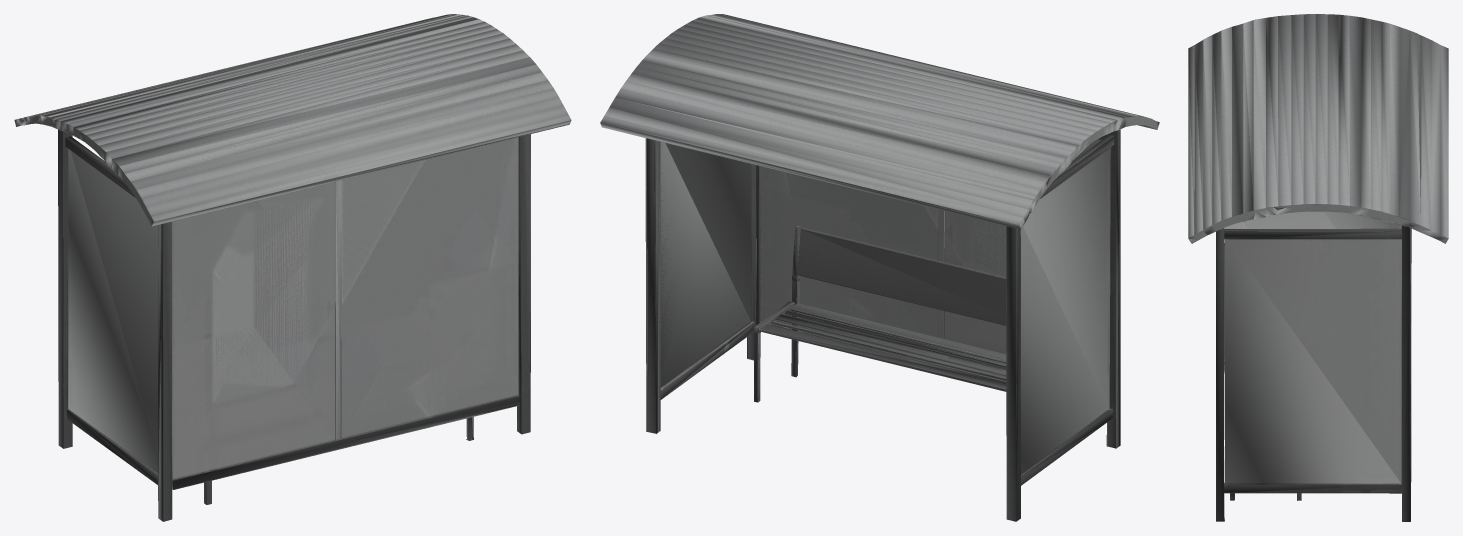
The model's file is bus_shelter.glb.
3 renders of one model, left to right at view 1: azimuth 30°, elevation 25°; view 2: azimuth 150°, elevation 25°; view 3: azimuth 270°, elevation 25°, orthographic. The views are drawn at different scales.
Visible parts, largest first — view 1: Prop_bus_shelter; view 2: Prop_bus_shelter; view 3: Prop_bus_shelter.
Boxes of the visible parts, left/top/right/bottom form: Prop_bus_shelter: left=14, top=14, right=571, bottom=521; Prop_bus_shelter: left=600, top=14, right=1159, bottom=521; Prop_bus_shelter: left=1188, top=14, right=1448, bottom=521.
Size of the model in its own units: 2.78 by 2.24 by 1.6.
Materials: 1 (1 with a texture image).
